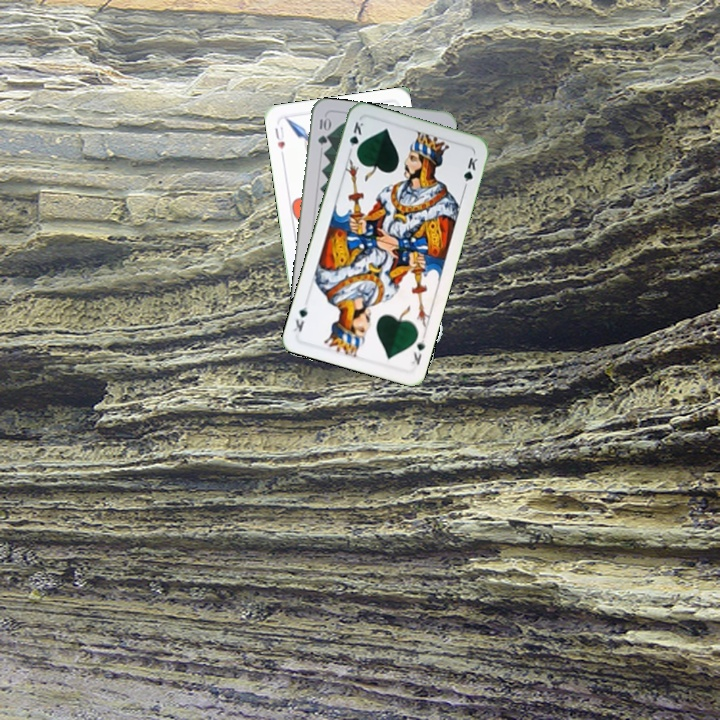G10: (314, 113, 331, 147)
GK: (345, 117, 366, 157), (407, 335, 428, 368)
HU: (271, 122, 287, 152)
